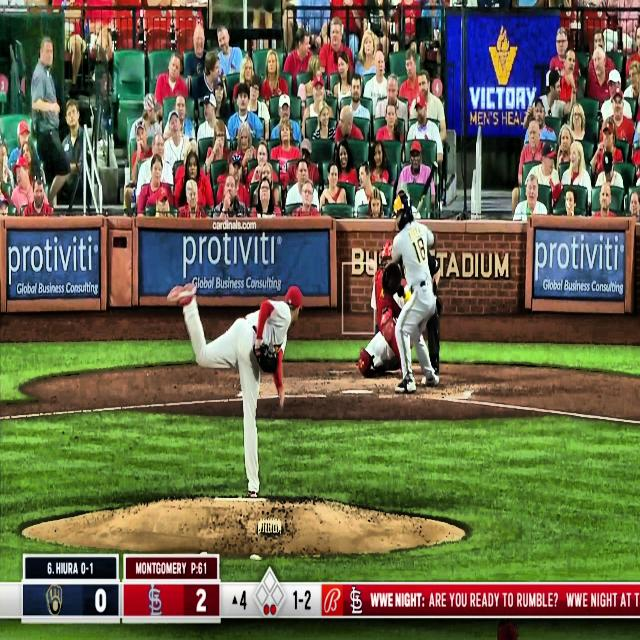baseball: (367, 258, 376, 269)
